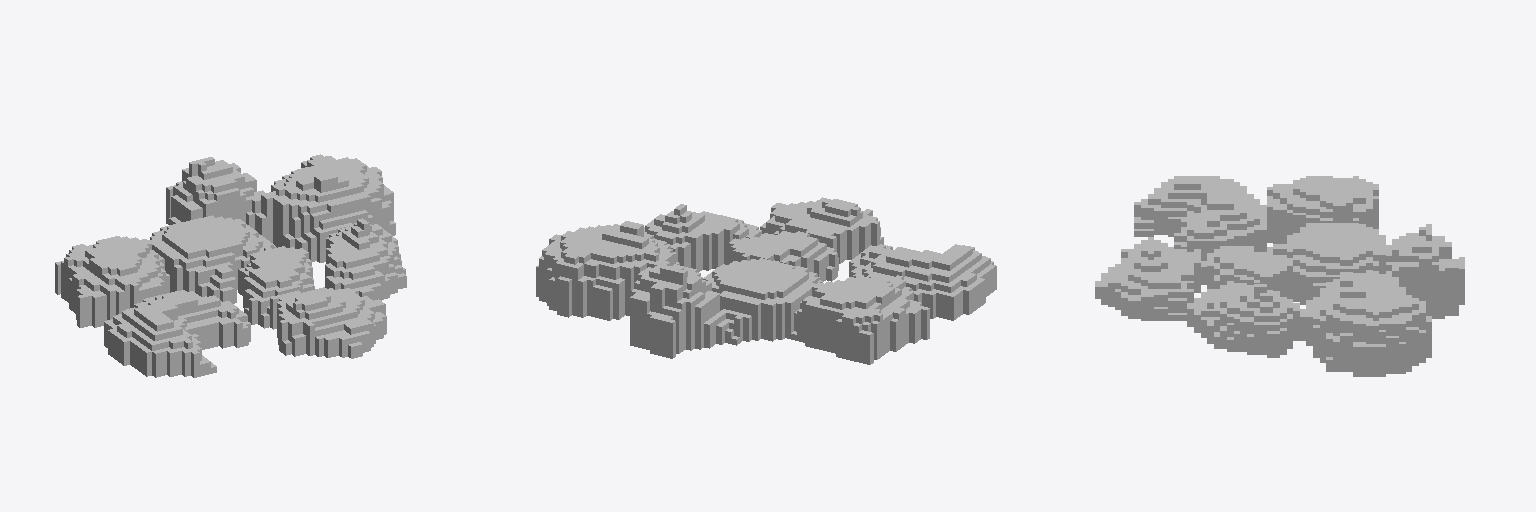
File: Env_Location_Sauna.obj
The picture shows the model from 3 angles: view 1: azimuth 30°, elevation 25°; view 2: azimuth 150°, elevation 25°; view 3: azimuth 270°, elevation 25°; orthographic projection.
Parts seen in each view (by area): view 1: object 1; view 2: object 1; view 3: object 1.
Part boxes in pixels (x1,y1,x2,y2): object 1: (55, 154, 406, 377); object 1: (536, 197, 996, 364); object 1: (1095, 176, 1464, 376).
Size of the model in its own units: 6.1 by 1.2 by 5.6.